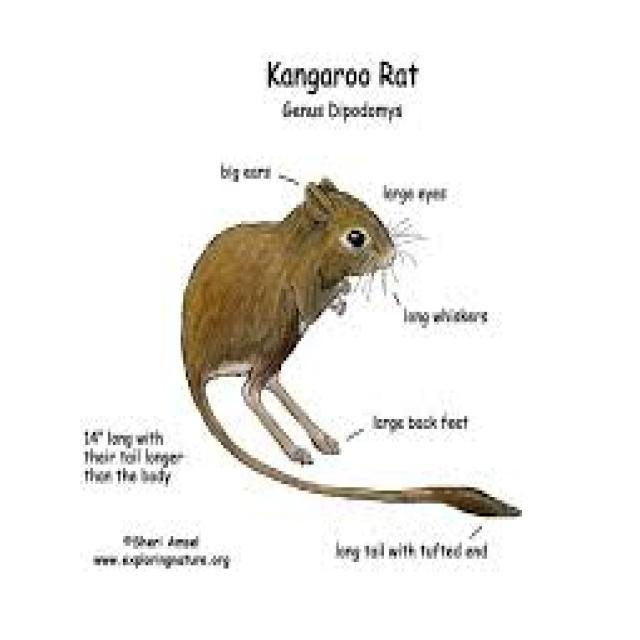Rat: (134, 154, 404, 446)
